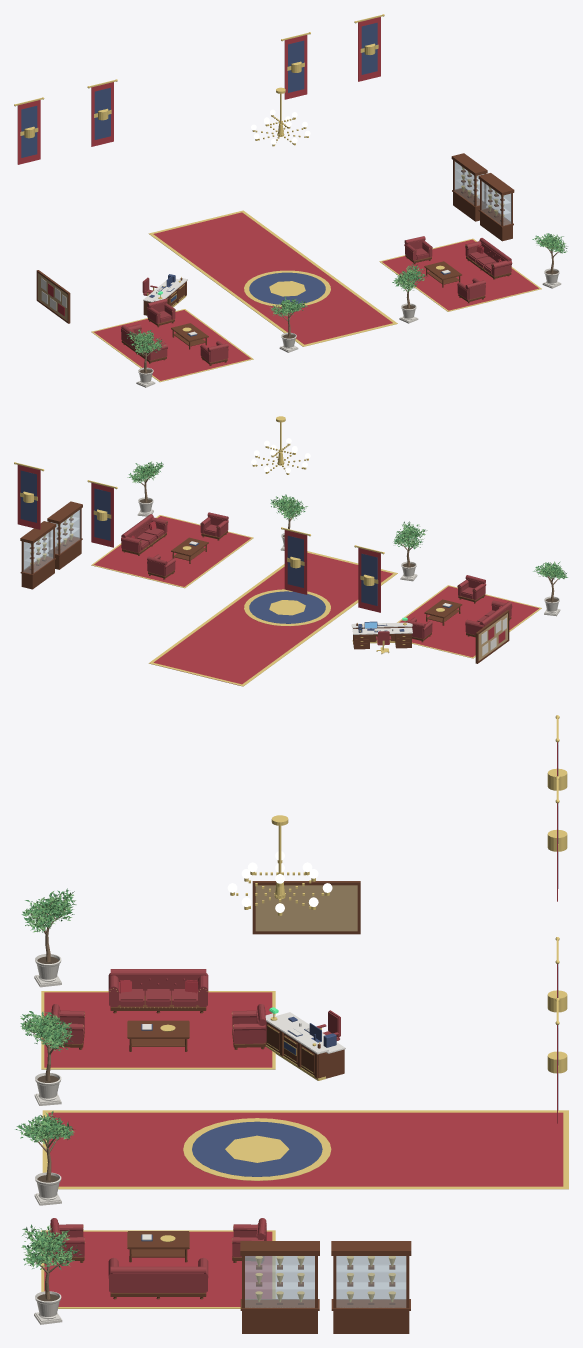
File: hall_furniture.glb
The picture shows the model from 3 angles, top to bottom: view 1: azimuth 30°, elevation 25°; view 2: azimuth 150°, elevation 25°; view 3: azimuth 270°, elevation 25°; orthographic projection. The views are drawn at different scales.
Parts seen in each view (by area): view 1: Hall_Carpet_Medallion, Hall_Lounge_West_Rug, Hall_Lounge_East_Rug, Hall_TrophyCase_1, Hall_TrophyCase_2, Hall_Banner_1, Hall_Banner_3, Hall_Banner_2, Hall_Banner_4, Hall_Lounge_East_Sofa, Hall_BulletinBoard, Hall_ReceptionDesk (+12 smaller); view 2: Hall_Carpet_Medallion, Hall_Lounge_East_Rug, Hall_Lounge_West_Rug, Hall_TrophyCase_2, Hall_TrophyCase_1, Hall_ReceptionDesk, Hall_Banner_4, Hall_Banner_2, Hall_Banner_3, Hall_Banner_1, Hall_Lounge_East_Sofa, Hall_BulletinBoard (+12 smaller); view 3: Hall_Carpet_Medallion, Hall_Lounge_West_Rug, Hall_Lounge_East_Rug, Hall_TrophyCase_2, Hall_TrophyCase_1, Hall_BulletinBoard, Hall_Lounge_West_Sofa, Hall_ReceptionDesk, Hall_Lounge_East_Sofa, Hall_Planter_4, Hall_Planter_3, Hall_Planter_1 (+8 smaller).
Part boxes in pixels (x1,y1,x2,y2): Hall_Carpet_Medallion: [148, 210, 397, 346]; Hall_Lounge_West_Rug: [91, 309, 253, 382]; Hall_Lounge_East_Rug: [379, 238, 541, 311]; Hall_TrophyCase_1: [478, 173, 514, 241]; Hall_TrophyCase_2: [451, 153, 487, 221]; Hall_Banner_1: [14, 97, 44, 164]; Hall_Banner_3: [281, 32, 310, 99]; Hall_Banner_2: [87, 79, 117, 146]; Hall_Banner_4: [354, 14, 384, 81]; Hall_Lounge_East_Sofa: [465, 238, 512, 279]; Hall_BulletinBoard: [36, 270, 70, 323]; Hall_ReceptionDesk: [142, 274, 187, 315]; Hall_Carpet_Medallion: [148, 551, 397, 686]; Hall_Lounge_East_Rug: [91, 515, 253, 588]; Hall_Lounge_West_Rug: [397, 585, 541, 658]; Hall_TrophyCase_2: [20, 521, 56, 589]; Hall_TrophyCase_1: [47, 501, 82, 569]; Hall_ReceptionDesk: [351, 617, 412, 654]; Hall_Banner_4: [14, 462, 44, 529]; Hall_Banner_2: [281, 527, 310, 594]; Hall_Banner_3: [87, 480, 117, 547]; Hall_Banner_1: [354, 545, 384, 612]; Hall_Lounge_East_Sofa: [121, 514, 167, 555]; Hall_BulletinBoard: [475, 610, 509, 663]; Hall_Carpet_Medallion: [42, 1110, 568, 1189]; Hall_Lounge_West_Rug: [41, 991, 275, 1069]; Hall_Lounge_East_Rug: [41, 1230, 275, 1308]; Hall_TrophyCase_2: [331, 1241, 411, 1333]; Hall_TrophyCase_1: [240, 1241, 319, 1333]; Hall_BulletinBoard: [252, 881, 360, 934]; Hall_Lounge_West_Sofa: [108, 969, 208, 1013]; Hall_ReceptionDesk: [265, 1007, 345, 1080]; Hall_Lounge_East_Sofa: [108, 1257, 208, 1299]; Hall_Planter_4: [21, 1224, 81, 1324]; Hall_Planter_3: [21, 888, 76, 987]; Hall_Planter_1: [20, 1011, 73, 1105].
Size of the model in its own units: 22.87 by 9.62 by 14.6.
